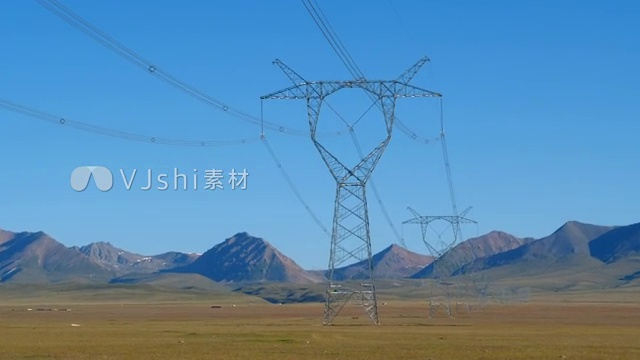tower_body: (255, 52, 450, 333), (400, 198, 481, 325)
tower_foot: (321, 276, 382, 328), (428, 291, 471, 322)
tower_head: (259, 54, 444, 187), (403, 201, 478, 256)
